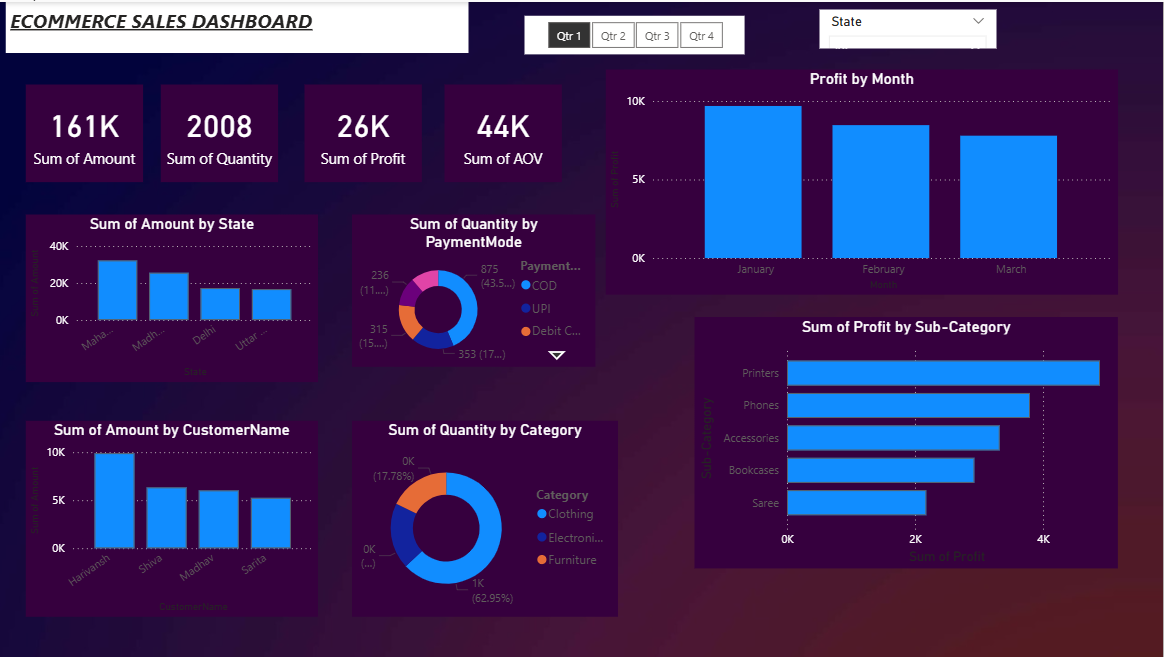

This screenshot's page, from the dashboard's own definition file:
{"tool":"powerbi","page":{"name":"Page 1","canvas":[1280,720],"ordinal":0},"visuals":[{"type":"textbox","box":[9.6,0,507.7,56.3],"z":0},{"type":"columnChart","title":"Profit by Month","fields":{"Y":["Sum(Details.Profit)"],"Category":["Orders.Order Date.Variation.Date Hierarchy.Month"]},"box":[668.3,74.1,562.6,247],"z":1000},{"type":"barChart","fields":{"Category":["Details.Sub-Category"],"Y":["Sum(Details.Profit)"]},"box":[765.7,345.8,465.2,275.8],"z":2000},{"type":"donutChart","fields":{"Category":["Details.Category"],"Y":["Sum(Details.Quantity)"]},"box":[389.7,459.7,292.3,215.4],"z":3000},{"type":"donutChart","fields":{"Category":["Details.PaymentMode"],"Y":["Sum(Details.Quantity)"]},"box":[389.7,233.3,267.6,167.4],"z":4000},{"type":"card","fields":{"Values":["Sum(Details.Amount)"]},"box":[31.6,90.6,129,107],"z":5000},{"type":"card","fields":{"Values":["Sum(Details.Quantity)"]},"box":[179.8,90.6,129,107],"z":6000},{"type":"card","fields":{"Values":["Sum(Details.Profit)"]},"box":[337.6,90.6,129,107],"z":7000},{"type":"card","fields":{"Values":["Sum(Details.AOV)"]},"box":[491.3,90.6,129,107],"z":8000},{"type":"columnChart","fields":{"Category":["Orders.State"],"Y":["Sum(Details.Amount)"]},"box":[31.6,233.3,321.1,183.9],"z":9000},{"type":"clusteredColumnChart","fields":{"Category":["Orders.CustomerName"],"Y":["Sum(Details.Amount)"]},"box":[32,460,321,215],"z":10000},{"type":"slicer","fields":{"Values":["Orders.State"]},"box":[902.9,8.2,193.5,42.5],"z":11000},{"type":"slicer","fields":{"Values":["Orders.Order Date.Variation.Date Hierarchy.Quarter"]},"box":[579.1,15.1,241.5,42.5],"z":12000}]}

Visuals, with their boxes in screenshot pixels (x1, y1, x2, y2), scaled from the page's 1280x720 canvas onto the 1164x657 screenshot:
textbox: 9/0/470/51
"Profit by Month" columnChart: 608/68/1119/293
barChart - Details.Sub-Category x Sum(Details.Profit): 696/316/1119/567
donutChart - Details.Category x Sum(Details.Quantity): 354/419/620/616
donutChart - Details.PaymentMode x Sum(Details.Quantity): 354/213/598/366
card - Sum(Details.Amount): 29/83/146/180
card - Sum(Details.Quantity): 164/83/281/180
card - Sum(Details.Profit): 307/83/424/180
card - Sum(Details.AOV): 447/83/564/180
columnChart - Orders.State x Sum(Details.Amount): 29/213/321/381
clusteredColumnChart - Orders.CustomerName x Sum(Details.Amount): 29/420/321/616
slicer - Orders.State: 821/7/997/46
slicer - Orders.Order Date.Variation.Date Hierarchy.Quarter: 527/14/746/53
